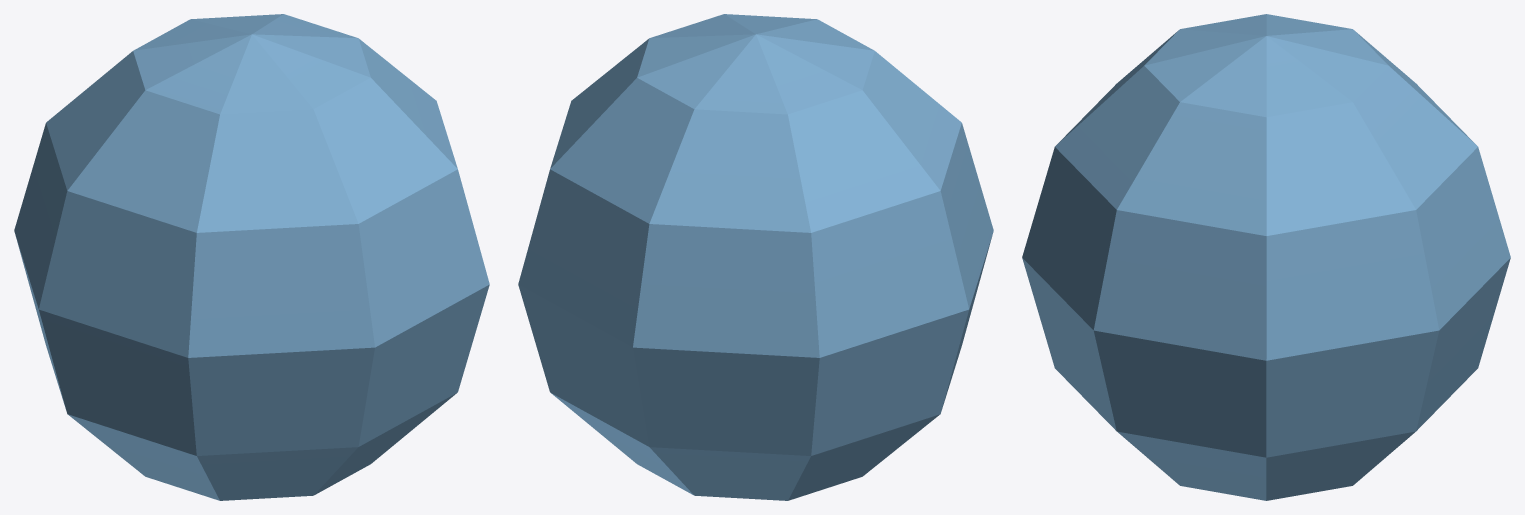
The model's file is SM_Snowball1.fbx.
3 views of the same model, side by side, from view 1: azimuth 30°, elevation 25°; view 2: azimuth 150°, elevation 25°; view 3: azimuth 270°, elevation 25° (orthographic).
Parts seen in each view (by area): view 1: SM_Snowball1; view 2: SM_Snowball1; view 3: SM_Snowball1.
Part boxes in pixels (x1,y1,x2,y2): SM_Snowball1: (14, 14, 489, 500); SM_Snowball1: (518, 14, 993, 500); SM_Snowball1: (1022, 14, 1510, 500).
Bounding box in the file's own units: 100 × 100 × 100.
